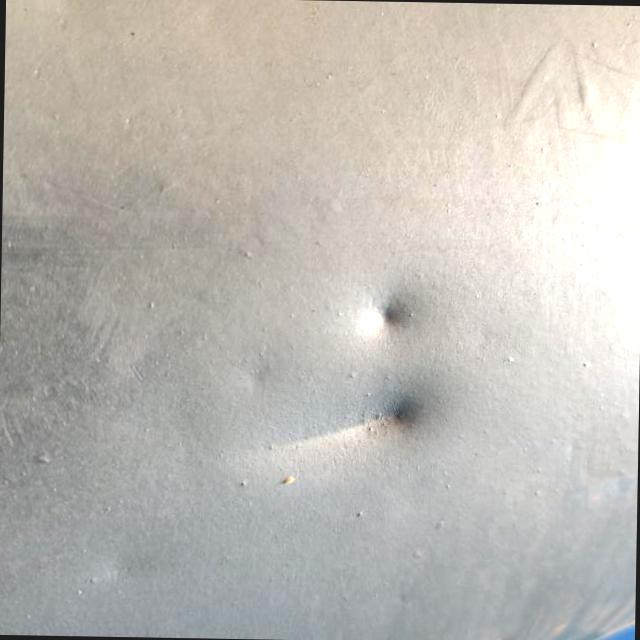dent: (282, 370, 442, 459), (354, 274, 434, 356)
